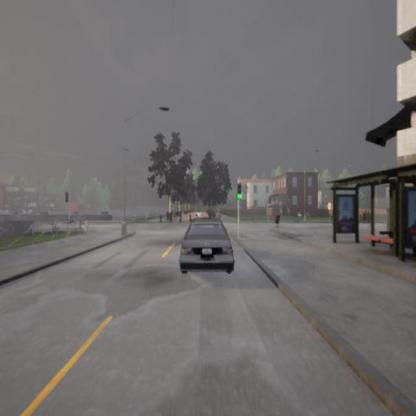traffic_light_green: (237, 182, 242, 200)
vehicle: (179, 220, 235, 275)
